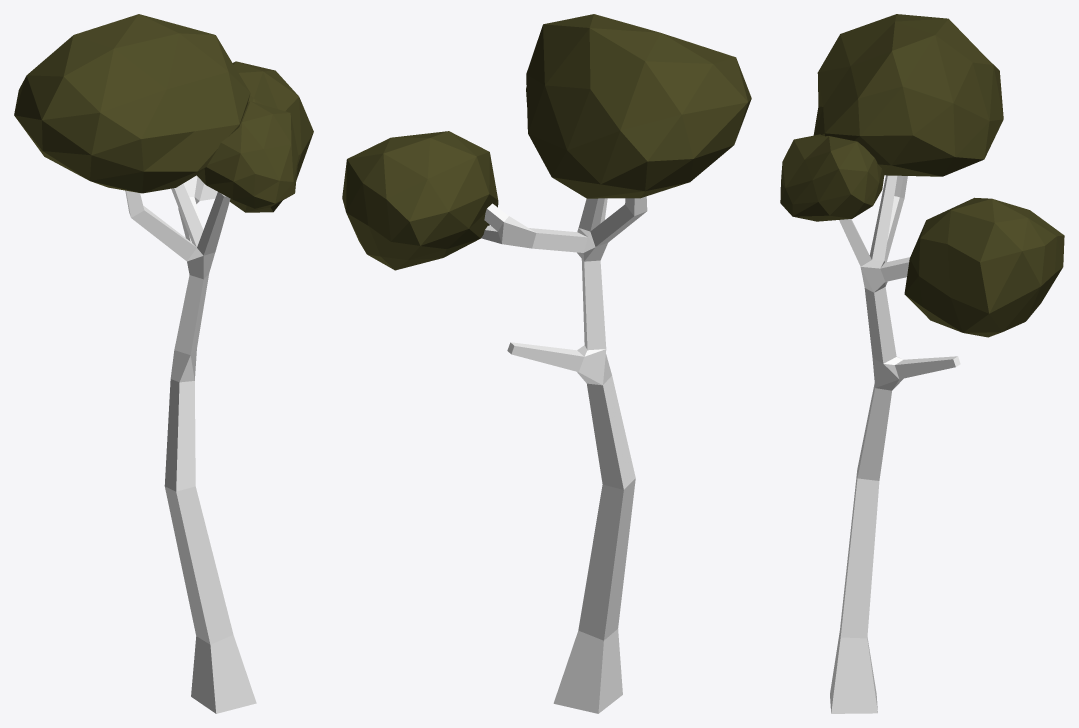
File: PrairieTree(3).fbx
3 renders of one model, left to right at view 1: azimuth 30°, elevation 25°; view 2: azimuth 150°, elevation 25°; view 3: azimuth 270°, elevation 25°, orthographic. The views are drawn at different scales.
Visible parts, largest first — view 1: PrairieTree(3); view 2: PrairieTree(3); view 3: PrairieTree(3).
Boxes of the visible parts, x1=… form: PrairieTree(3): x1=14, y1=14, x2=313, y2=713; PrairieTree(3): x1=342, y1=14, x2=751, y2=713; PrairieTree(3): x1=780, y1=14, x2=1064, y2=713.
Size of the model in its own units: 4.41 by 8.64 by 3.43.
